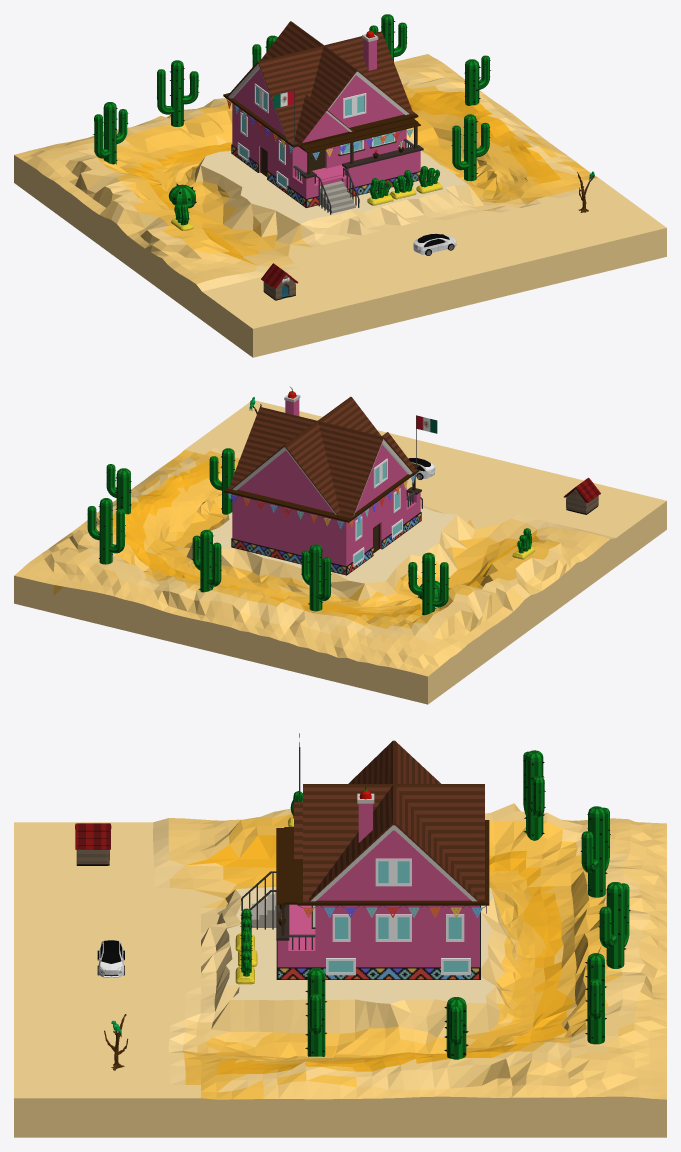
3 views of the same model, one above another, from view 1: azimuth 30°, elevation 25°; view 2: azimuth 150°, elevation 25°; view 3: azimuth 270°, elevation 25° (orthographic). The views are drawn at different scales.
Visible parts, largest first — view 1: Cube.001, Cube.1005, Cylinder.044, Cylinder.037, Cylinder.045, Cylinder.038, OBJRANDOM_DOGHOUSE, Cylinder.042, VEHICLES_TESLA, Cylinder.039, Cylinder.041; view 2: Cube.001, Cube.1005, Cylinder.042, Cylinder.045, Cylinder.044, Cylinder.043, Cylinder.037, Cylinder.038, OBJRANDOM_DOGHOUSE; view 3: Cube.001, Cube.1005, Cylinder.043, Cylinder.044, Cylinder.045, Cylinder.037, Cylinder.042, OBJRANDOM_DOGHOUSE, Cylinder.038, VEHICLES_TESLA, Cylinder.041.
Part boxes in pixels (x1,y1,x2,y2): Cube.001: (14,54,666,357); Cube.1005: (223,21,423,214); Cylinder.044: (157,60,199,126); Cylinder.037: (451,114,490,181); Cylinder.045: (93,102,128,164); Cylinder.038: (464,55,490,105); OBJRANDOM_DOGHOUSE: (261,263,298,300); Cylinder.042: (369,14,407,61); VEHICLES_TESLA: (413,233,456,255); Cylinder.039: (367,178,393,205); Cylinder.041: (416,166,442,193); Cube.001: (14,400,666,704); Cube.1005: (224,386,437,575); Cylinder.042: (87,498,125,564); Cylinder.045: (408,552,449,615); Cylinder.044: (301,544,331,611); Cylinder.043: (192,529,221,592); Cylinder.037: (209,448,239,514); Cylinder.038: (106,464,131,514); OBJRANDOM_DOGHOUSE: (564,477,600,514); Cube.001: (14,803,666,1137); Cube.1005: (241,733,489,979); Cylinder.043: (598,882,630,968); Cylinder.044: (580,806,610,897); Cylinder.045: (523,750,545,840); Cylinder.037: (305,968,326,1056); Cylinder.042: (585,953,606,1044); OBJRANDOM_DOGHOUSE: (75,823,111,865); Cylinder.038: (444,997,468,1059); VEHICLES_TESLA: (97,940,124,977); Cylinder.041: (235,941,254,984).
Bounding box in the file's own units: 4002 × 1721 × 4001.
70 materials, 4 textured.
